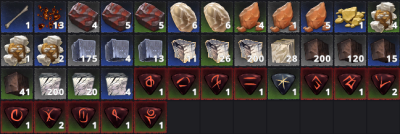bone: (1, 1, 33, 33)
chaos ember: (34, 1, 65, 32)
cinnabar mineral: (100, 1, 132, 32), (134, 1, 165, 32), (68, 1, 98, 32)
dolomite mineral: (367, 1, 399, 32), (1, 35, 33, 66), (35, 35, 65, 64)
granite stone: (135, 34, 166, 65), (102, 34, 132, 66), (68, 35, 98, 65)
halite mineral: (167, 1, 199, 32), (201, 1, 233, 32)
limestone stone: (202, 34, 233, 65), (169, 35, 199, 65), (235, 35, 265, 65)
marble stone: (35, 68, 65, 98), (68, 69, 98, 97), (103, 69, 131, 97)
nitre mineral: (235, 1, 266, 32), (301, 1, 332, 32), (268, 1, 298, 31)
slate stone: (1, 68, 33, 99), (335, 35, 365, 66), (368, 36, 399, 66), (302, 35, 332, 65)
sulphur mineral: (335, 1, 365, 31)
travertine stone: (269, 36, 298, 64)
